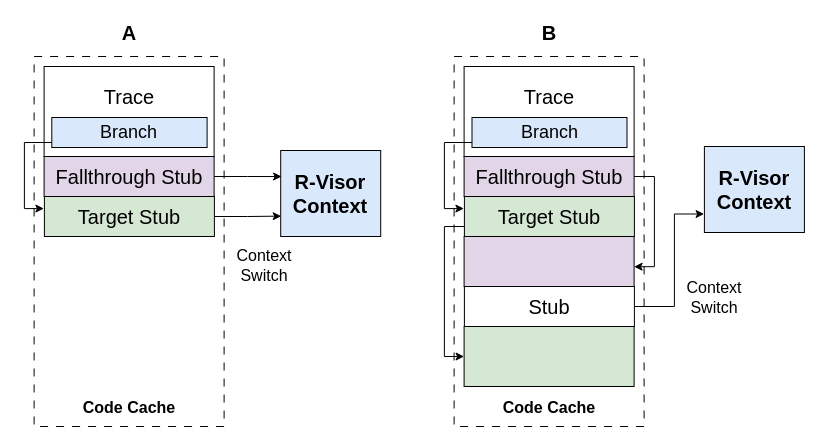
Some shapes in this 822 by 444 pixel diagram are drawn without their labels. Each missing label, with the centre of its shape:
"Fallthrough Block" belongs at point 548,261.
"Target Block" belongs at point 548,356.
